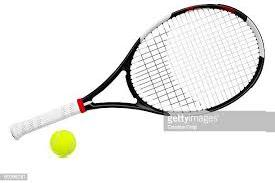tennis ball: (50, 132, 76, 156)
tennis racket: (11, 5, 266, 139)
